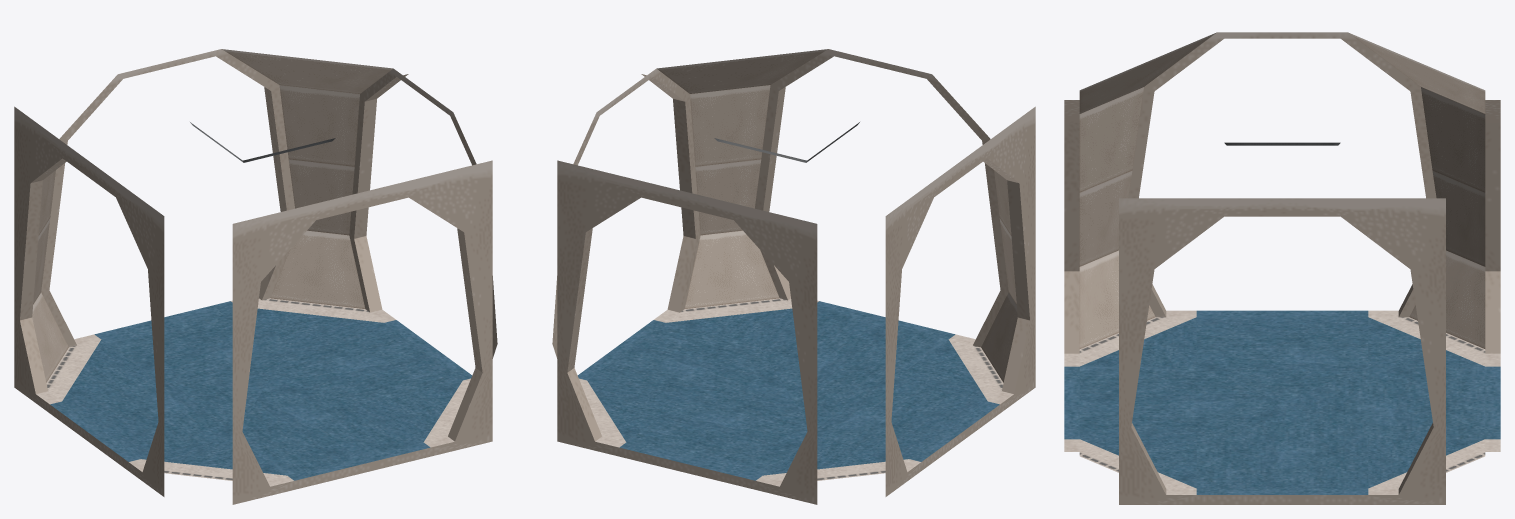
The model's file is galaxyCorridor4Way.glb.
The picture shows the model from 3 angles, left to right: view 1: azimuth 30°, elevation 25°; view 2: azimuth 150°, elevation 25°; view 3: azimuth 270°, elevation 25°; orthographic projection. The views are drawn at different scales.
Visible parts, largest first — view 1: Corridor4Way; view 2: Corridor4Way; view 3: Corridor4Way.
Part boxes in pixels (box(x1,y1,x2,y2)): Corridor4Way: box(14, 49, 497, 504); Corridor4Way: box(552, 49, 1035, 504); Corridor4Way: box(1064, 32, 1500, 504).
Bounding box in the file's own units: 4 × 3.1 × 4.
Materials: 1 (1 with a texture image).
